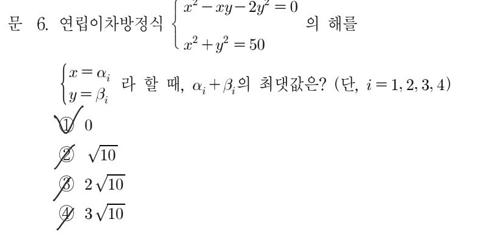1: (54, 105, 82, 136)
paper: (55, 203, 75, 223), (56, 174, 76, 194), (56, 146, 76, 166), (56, 116, 76, 136)
